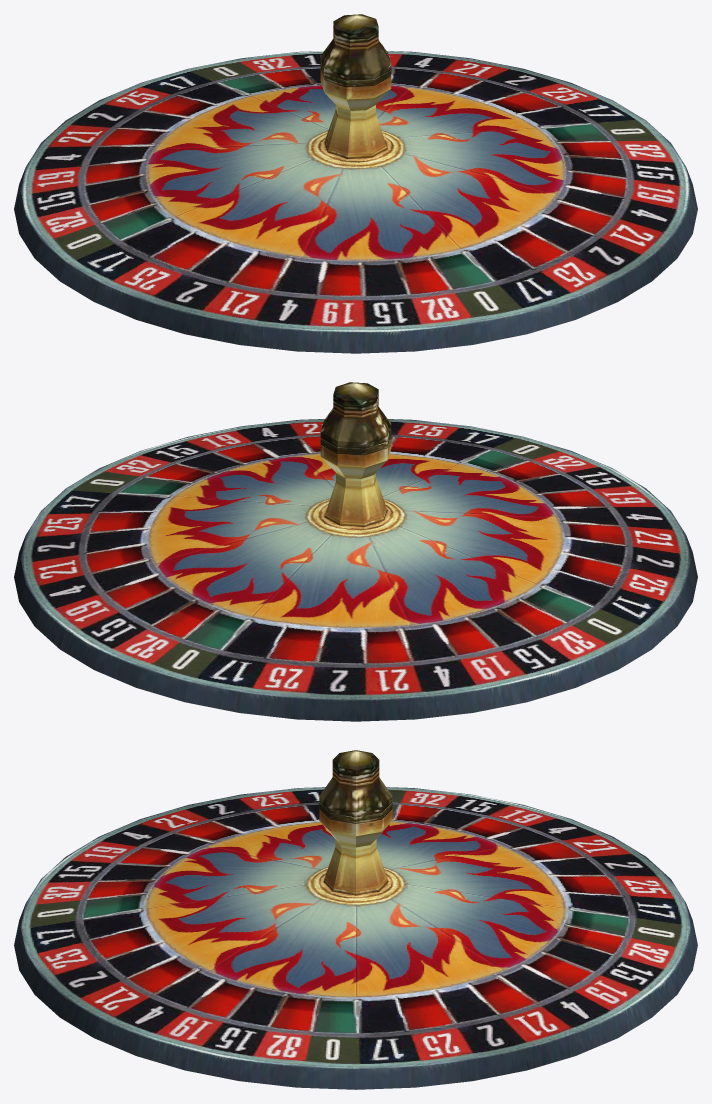
The model's file is casinopark_roulette.obj.
3 renders of one model, top to bottom at view 1: azimuth 30°, elevation 25°; view 2: azimuth 150°, elevation 25°; view 3: azimuth 270°, elevation 25°, orthographic.
Visible parts, largest first — view 1: Object_1; view 2: Object_1; view 3: Object_1.
Boxes of the visible parts, x1,y1,x2,y2 form: Object_1: (14,14,697,353); Object_1: (14,382,697,721); Object_1: (14,750,697,1089).
Size of the model in its own units: 280 by 87.41 by 280.
